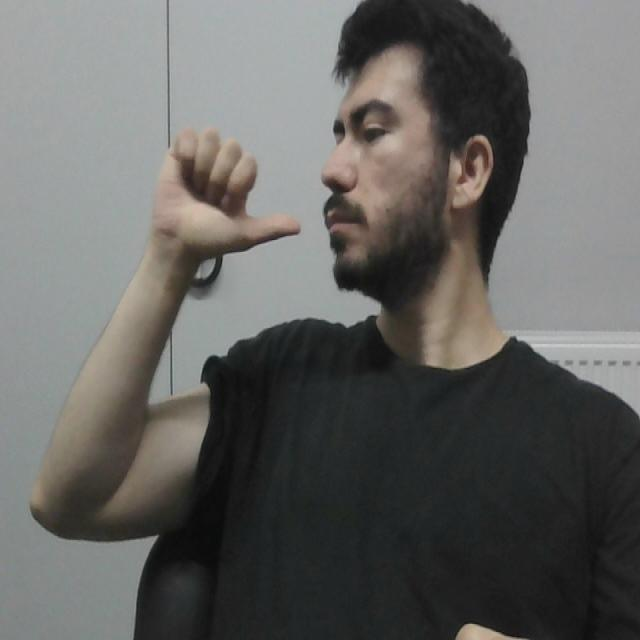icmek: (151, 125, 353, 256)
